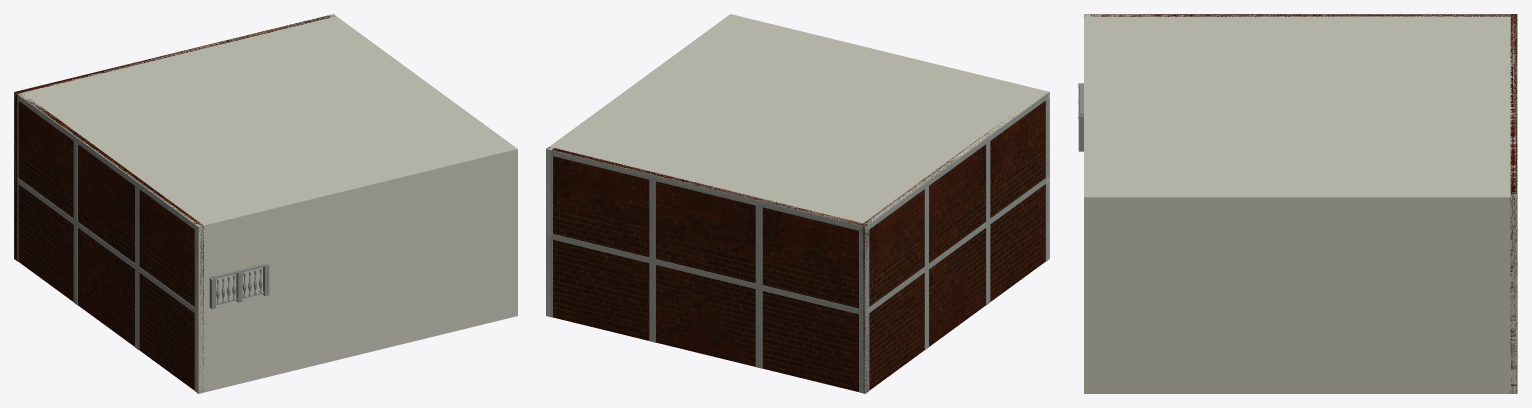
The model's file is building.glb.
3 renders of one model, left to right at view 1: azimuth 30°, elevation 25°; view 2: azimuth 150°, elevation 25°; view 3: azimuth 270°, elevation 25°, orthographic. The views are drawn at different scales.
Visible parts, largest first — view 1: roof/house:0/roof_slab#0001, house:0/edge0/z0/house:0/edge0/z0/wall_0_0, house:0/edge3/z0/house:0/edge3/z0/wall_0_0, house:0/edge2/z0/house:0/edge2/z0/wall_0_0, house:0/edge3/z0/house:0/edge3/z0/beam_1_0, house:0/edge3/z0/house:0/edge3/z0/beam_0_0, house:0/edge1/z0/house:0/edge1/z0/wall_0_0; view 2: roof/house:0/roof_slab#0001, house:0/edge2/z0/house:0/edge2/z0/wall_0_0, house:0/edge3/z0/house:0/edge3/z0/wall_0_0, house:0/edge2/z0/house:0/edge2/z0/beam_0_0, house:0/edge2/z0/house:0/edge2/z0/beam_1_0, house:0/edge1/z0/house:0/edge1/z0/wall_0_0, house:0/edge0/z0/house:0/edge0/z0/wall_0_0, house:0/edge3/z0/house:0/edge3/z0/beam_1_0, house:0/edge3/z0/house:0/edge3/z0/beam_0_0, house:0/edge2/z0/house:0/edge2/z0/column_3_1, house:0/edge2/z0/house:0/edge2/z0/column_3_0, house:0/edge2/z0/house:0/edge2/z0/column_2_1 (+3 smaller); view 3: house:0/edge1/z0/house:0/edge1/z0/wall_0_0, roof/house:0/roof_slab#0001, house:0/edge0/z0/house:0/edge0/z0/wall_0_0, house:0/edge2/z0/house:0/edge2/z0/wall_0_0, house:0/edge3/z0/house:0/edge3/z0/wall_0_0.
Boxes of the visible parts, x1,y1,x2,y2 form: roof/house:0/roof_slab#0001: (15,14,517,230); house:0/edge0/z0/house:0/edge0/z0/wall_0_0: (195,147,517,393); house:0/edge3/z0/house:0/edge3/z0/wall_0_0: (18,94,203,391); house:0/edge2/z0/house:0/edge2/z0/wall_0_0: (14,15,335,260); house:0/edge3/z0/house:0/edge3/z0/beam_1_0: (14,92,198,232); house:0/edge3/z0/house:0/edge3/z0/beam_0_0: (15,176,198,313); house:0/edge1/z0/house:0/edge1/z0/wall_0_0: (328,14,517,315); roof/house:0/roof_slab#0001: (546,14,1046,228); house:0/edge2/z0/house:0/edge2/z0/wall_0_0: (546,147,868,392); house:0/edge3/z0/house:0/edge3/z0/wall_0_0: (860,101,1045,393); house:0/edge2/z0/house:0/edge2/z0/beam_0_0: (546,233,865,315); house:0/edge2/z0/house:0/edge2/z0/beam_1_0: (546,149,865,231); house:0/edge1/z0/house:0/edge1/z0/wall_0_0: (546,14,735,316); house:0/edge0/z0/house:0/edge0/z0/wall_0_0: (728,14,1049,259); house:0/edge3/z0/house:0/edge3/z0/beam_1_0: (865,92,1049,231); house:0/edge3/z0/house:0/edge3/z0/beam_0_0: (865,176,1049,315); house:0/edge2/z0/house:0/edge2/z0/column_3_1: (755,289,762,368); house:0/edge2/z0/house:0/edge2/z0/column_3_0: (755,206,762,285); house:0/edge2/z0/house:0/edge2/z0/column_2_1: (649,263,655,342); house:0/edge1/z0/house:0/edge1/z0/wall_0_0: (1084,194,1517,393); roof/house:0/roof_slab#0001: (1084,14,1517,201); house:0/edge0/z0/house:0/edge0/z0/wall_0_0: (1084,14,1090,393); house:0/edge2/z0/house:0/edge2/z0/wall_0_0: (1510,14,1517,393); house:0/edge3/z0/house:0/edge3/z0/wall_0_0: (1084,14,1513,16).
Bounding box in the file's own units: 12 × 6 × 12.16.
Materials: 4 (1 with a texture image).
